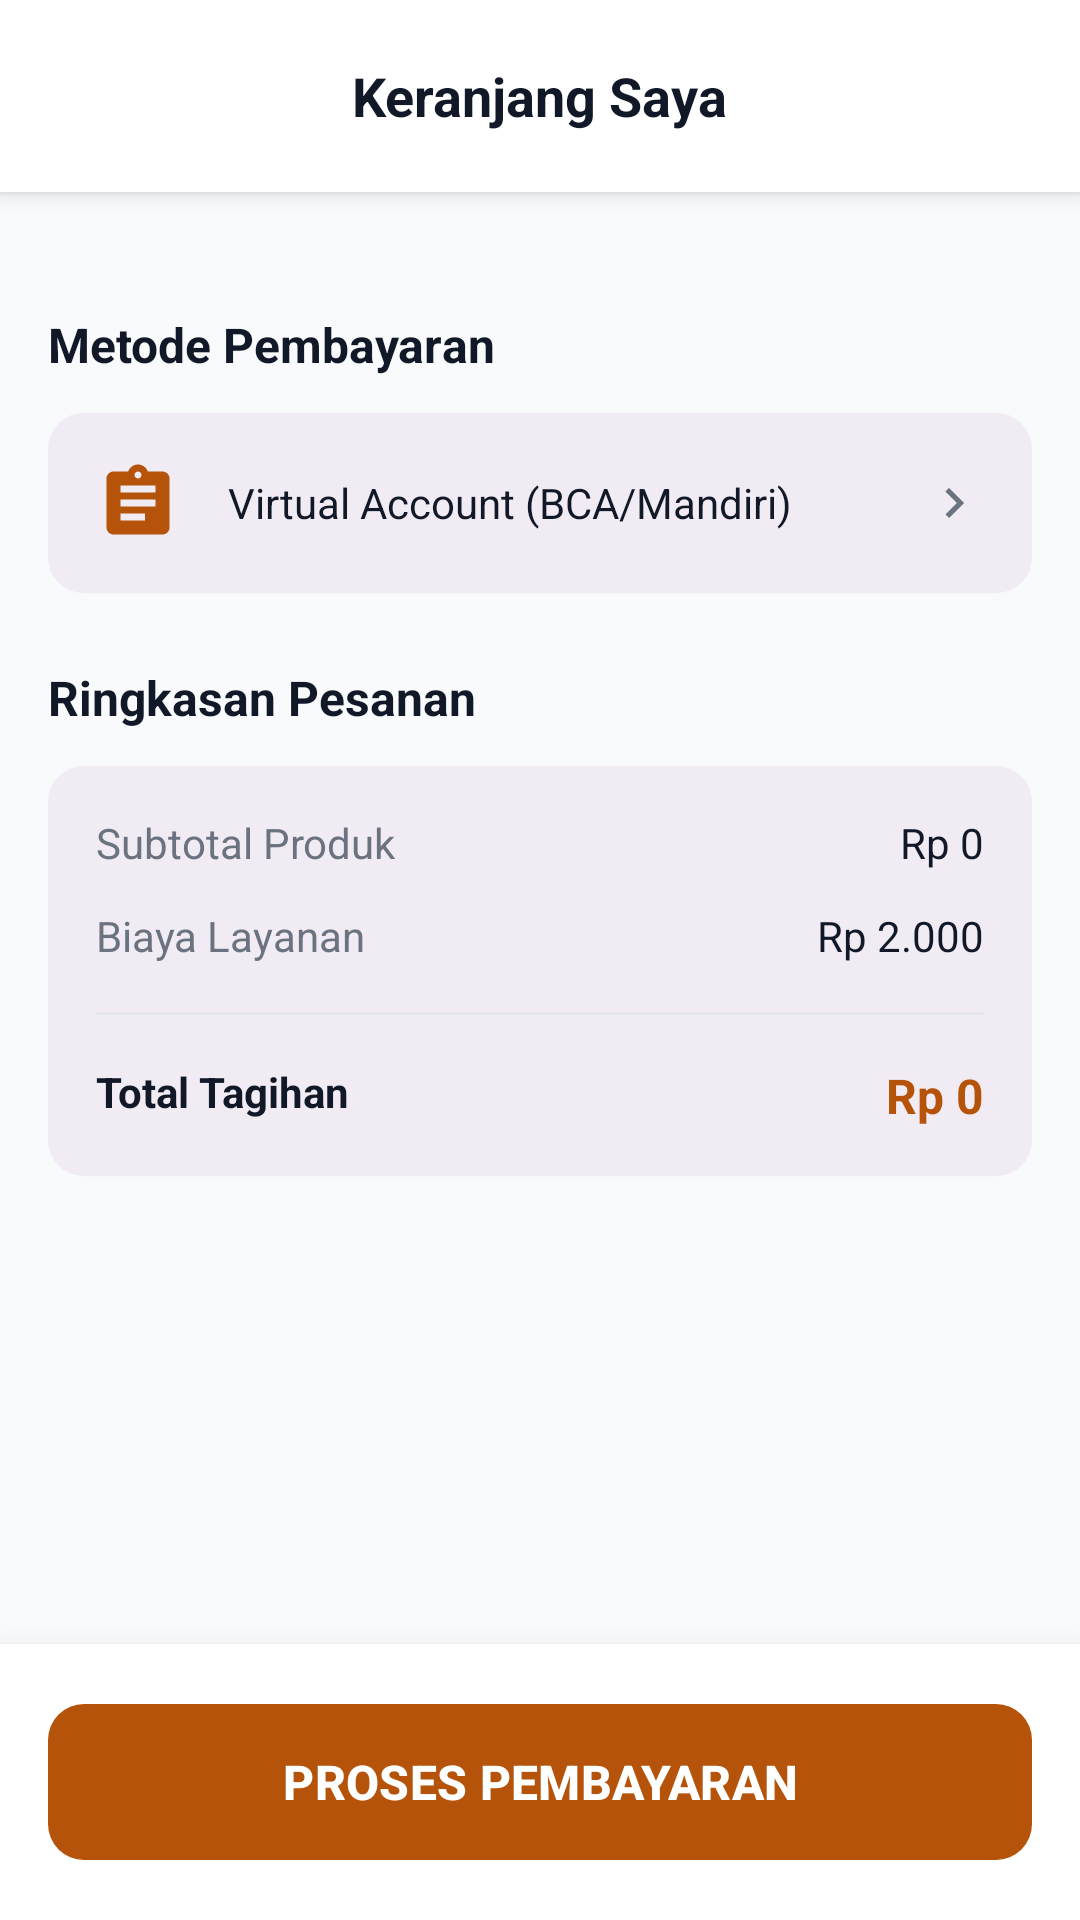

Icon click points for this 1080px x 1920px phone screenshot, format [x,y]:
chevron right: [954,503]
orders: [138,499]
